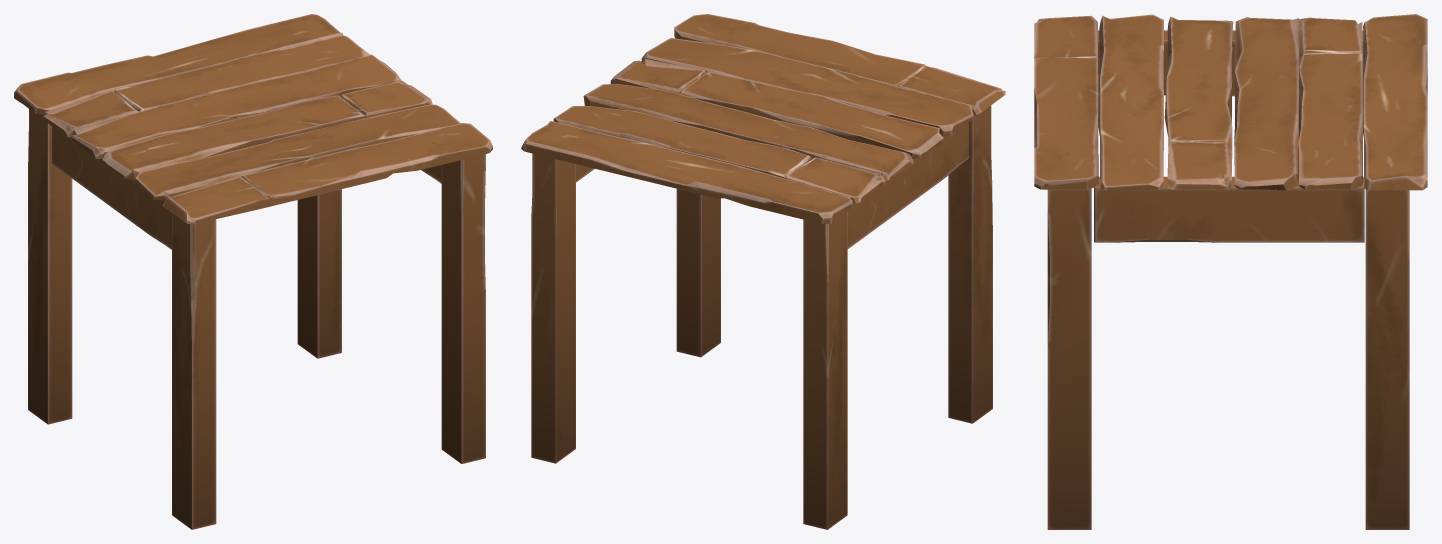
File: Foundation.fbx
3 views of the same model, side by side, from view 1: azimuth 30°, elevation 25°; view 2: azimuth 150°, elevation 25°; view 3: azimuth 270°, elevation 25° (orthographic). The views are drawn at different scales.
Visible parts, largest first — view 1: woodPlatform01; view 2: woodPlatform01; view 3: woodPlatform01.
Boxes of the visible parts, x1,y1,x2,y2 form: woodPlatform01: [14, 14, 492, 529]; woodPlatform01: [521, 14, 1005, 529]; woodPlatform01: [1034, 14, 1427, 529].
Size of the model in its own units: 99.57 by 99.23 by 99.49.
1 material, 1 textured.
